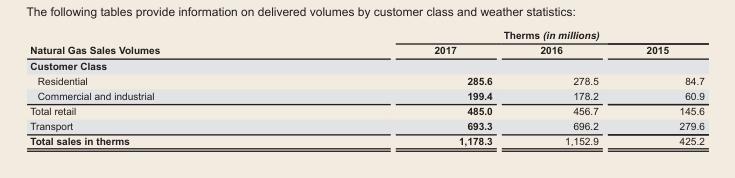table: (29, 29, 703, 146)
table column: (29, 29, 296, 146), (296, 29, 515, 146), (515, 29, 621, 146), (621, 29, 703, 146)
table column header: (29, 29, 703, 57)
table projected row header: (29, 57, 703, 72)
table row: (29, 102, 703, 118), (29, 42, 703, 57), (29, 57, 703, 72), (29, 72, 703, 87), (29, 87, 703, 102), (29, 118, 703, 133), (29, 29, 703, 42), (29, 133, 703, 146)
table spanning cell: (29, 29, 296, 57), (296, 29, 703, 42)
